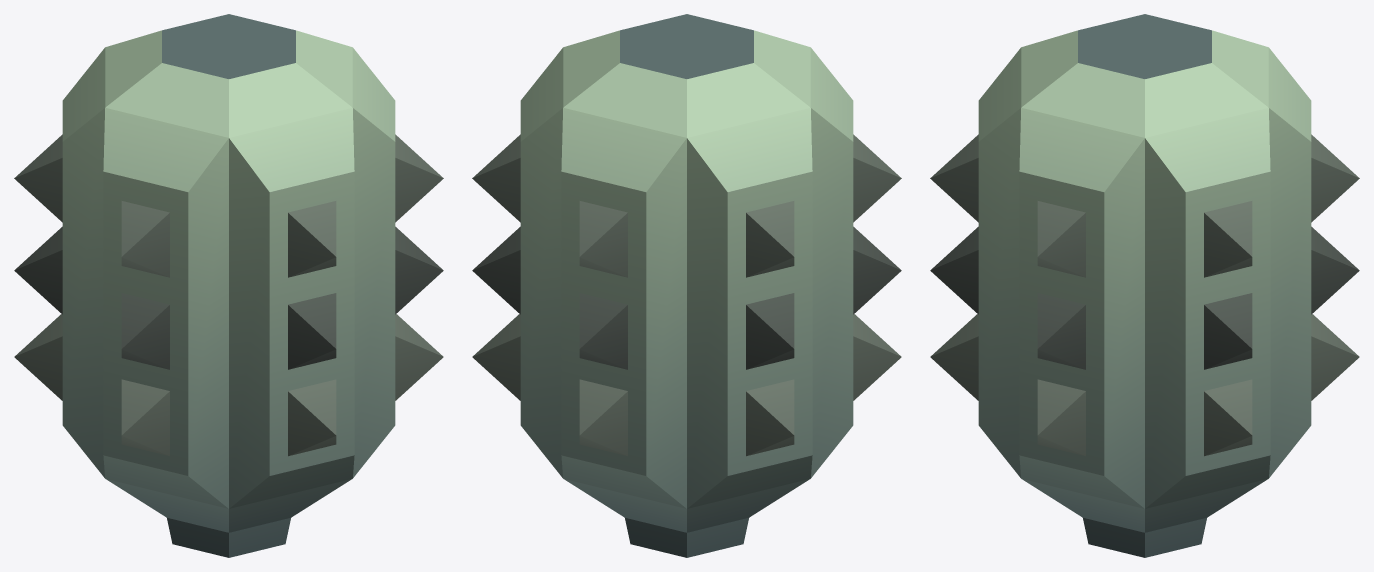
File: mace-head.fbx
3 views of the same model, side by side, from view 1: azimuth 30°, elevation 25°; view 2: azimuth 150°, elevation 25°; view 3: azimuth 270°, elevation 25° (orthographic).
Parts seen in each view (by area): view 1: mace-head; view 2: mace-head; view 3: mace-head.
Part boxes in pixels (x1,y1,x2,y2): mace-head: [14, 14, 443, 557]; mace-head: [472, 14, 901, 557]; mace-head: [930, 14, 1359, 557].
Bounding box in the file's own units: 29.25 × 41.95 × 33.78.
